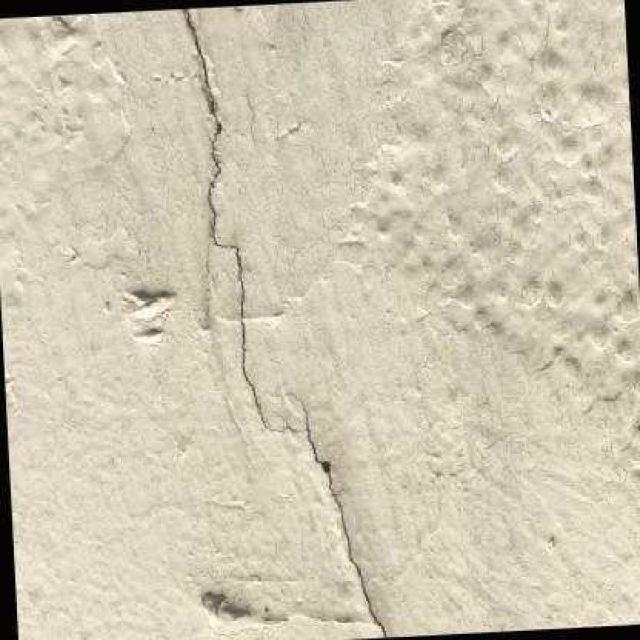D00: (179, 6, 387, 637)
